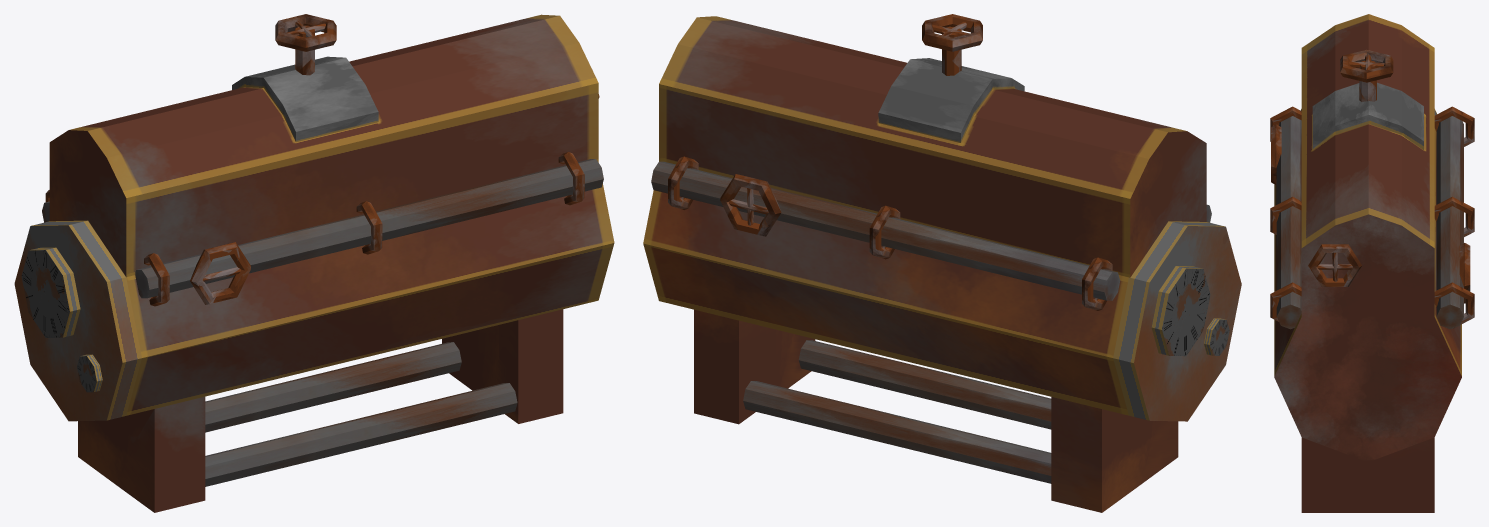
Rendered from Maschine2.fbx.
3 renders of one model, left to right at view 1: azimuth 30°, elevation 25°; view 2: azimuth 150°, elevation 25°; view 3: azimuth 270°, elevation 25°, orthographic. The views are drawn at different scales.
Visible parts, largest first — view 1: Cylinder, Cylinder.001, Cylinder.008, Cylinder.005, Cylinder.007, Cylinder.003, Torus.002, Torus.007, Cylinder.004, Torus.001, Torus.003, Torus; view 2: Cylinder, Cylinder.001, Cylinder.009, Cylinder.007, Cylinder.005, Cylinder.003, Torus.008, Torus.007, Torus.005, Torus.004, Torus.006, Cylinder.004; view 3: Cylinder, Cylinder.009, Cylinder.008, Torus.007, Torus.009, Torus.004, Torus.006, Torus.005, Torus.002, Torus.008, Torus.003, Torus.001 (+2 smaller).
Boxes of the visible parts, x1,y1,x2,y2 form: Cylinder: (49, 14, 614, 512); Cylinder.001: (14, 220, 141, 421); Cylinder.008: (135, 159, 603, 298); Cylinder.005: (205, 383, 517, 486); Cylinder.007: (205, 342, 461, 432); Cylinder.003: (21, 247, 80, 337); Torus.002: (190, 242, 250, 304); Torus.007: (275, 14, 336, 51); Cylinder.004: (77, 354, 102, 392); Torus.001: (356, 201, 382, 254); Torus.003: (558, 152, 584, 205); Torus: (144, 253, 169, 306); Cylinder: (643, 16, 1206, 512); Cylinder.001: (1113, 221, 1241, 421); Cylinder.009: (651, 161, 1120, 300); Cylinder.007: (743, 381, 1051, 483); Cylinder.005: (798, 340, 1051, 429); Cylinder.003: (1151, 266, 1210, 356); Torus.008: (720, 174, 781, 236); Torus.007: (922, 14, 982, 51); Torus.005: (869, 205, 900, 259); Torus.004: (668, 156, 698, 209); Torus.006: (1082, 257, 1112, 310); Cylinder.004: (1204, 318, 1229, 355); Cylinder: (1274, 14, 1461, 512); Cylinder.009: (1436, 116, 1463, 329); Cylinder.008: (1276, 116, 1301, 329); Torus.007: (1340, 49, 1393, 82); Torus.009: (1308, 244, 1361, 286); Torus.004: (1434, 282, 1474, 328); Torus.006: (1434, 106, 1474, 146); Torus.005: (1434, 196, 1474, 236); Torus.002: (1271, 124, 1281, 185); Torus.008: (1459, 243, 1470, 303); Torus.003: (1270, 282, 1301, 321); Torus.001: (1270, 196, 1301, 234).
Size of the model in its own units: 1086 by 841 by 435.
